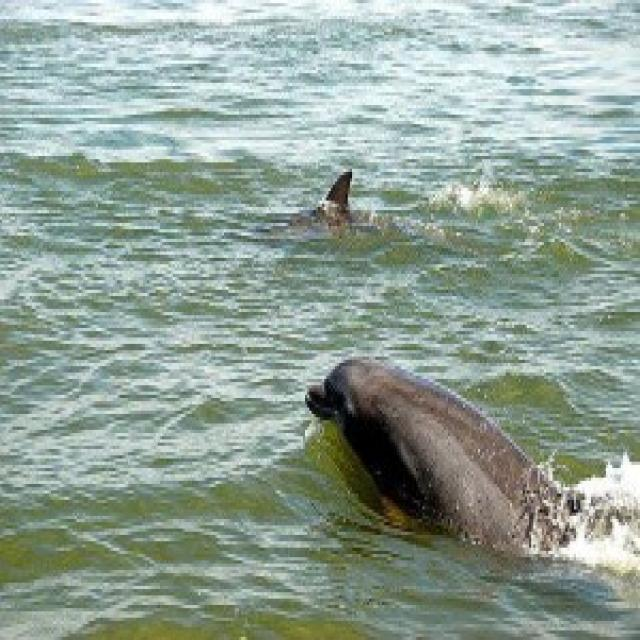Dolphin: (300, 338, 612, 586)
